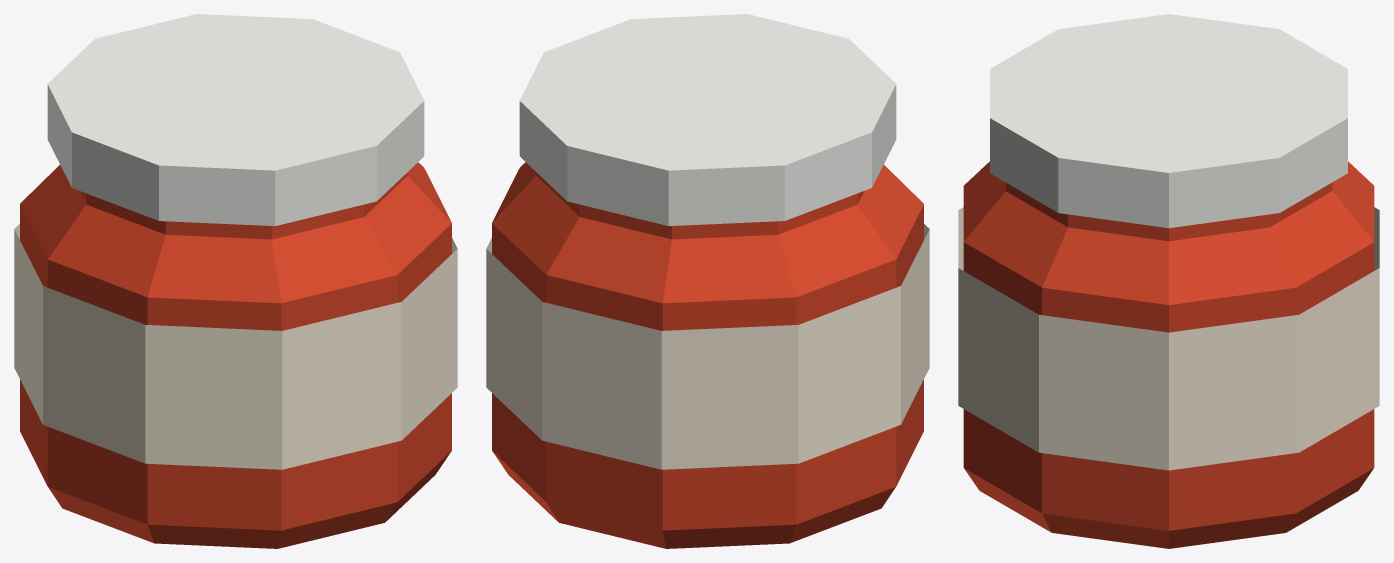
Rendered from Food_KimchiJar.obj.
3 views of the same model, side by side, from view 1: azimuth 30°, elevation 25°; view 2: azimuth 150°, elevation 25°; view 3: azimuth 270°, elevation 25° (orthographic).
Size of the model in its own units: 1.6 by 1.48 by 1.52.
